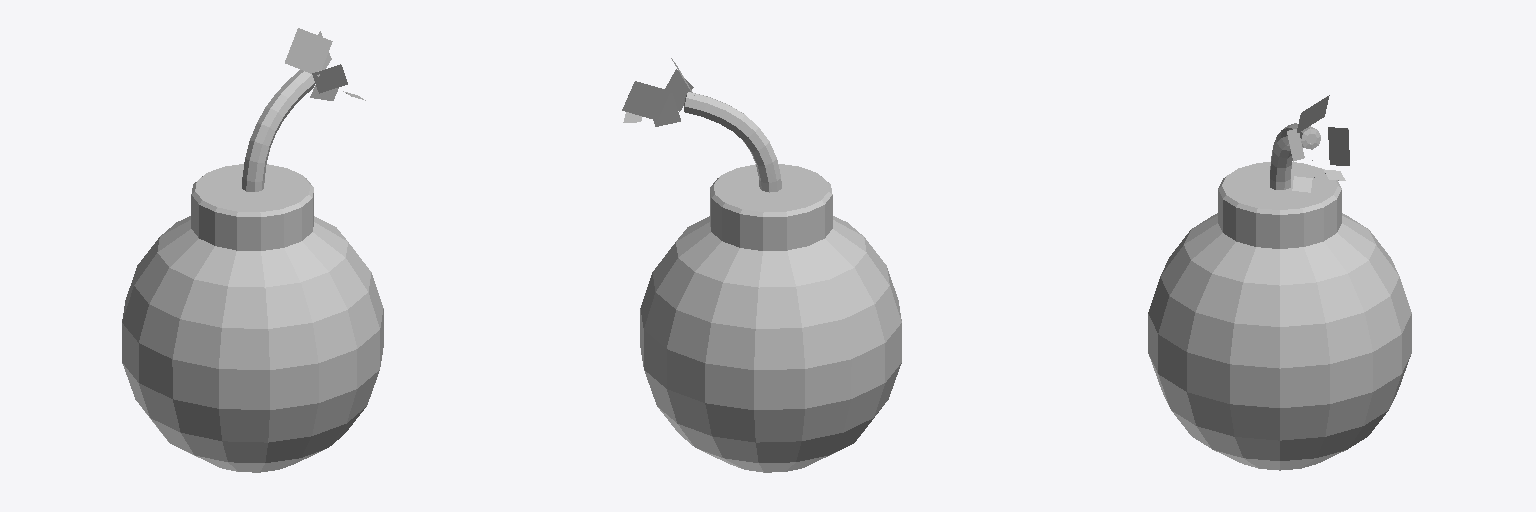
Rendered from bomb_000020.obj.
3 views of the same model, side by side, from view 1: azimuth 30°, elevation 25°; view 2: azimuth 150°, elevation 25°; view 3: azimuth 270°, elevation 25° (orthographic).
Visible parts, largest first — view 1: Sphere, NurbsPath, Plane_5.001_Mesh.001; view 2: Sphere, NurbsPath, Plane_5.001_Mesh.001; view 3: Sphere, Plane_5.001_Mesh.001, NurbsPath.
Part boxes in pixels (bbox=[...]): Sphere: bbox=[122, 164, 383, 472]; NurbsPath: bbox=[242, 70, 315, 191]; Plane_5.001_Mesh.001: bbox=[285, 28, 365, 100]; Sphere: bbox=[640, 164, 901, 472]; NurbsPath: bbox=[684, 92, 781, 192]; Plane_5.001_Mesh.001: bbox=[622, 58, 694, 126]; Sphere: bbox=[1148, 162, 1411, 470]; Plane_5.001_Mesh.001: bbox=[1287, 95, 1349, 192]; NurbsPath: bbox=[1270, 123, 1320, 189].
Size of the model in its own units: 0.8893 by 1.4 by 0.8651.